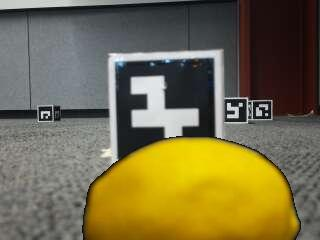lemon: (86, 137, 298, 239)
